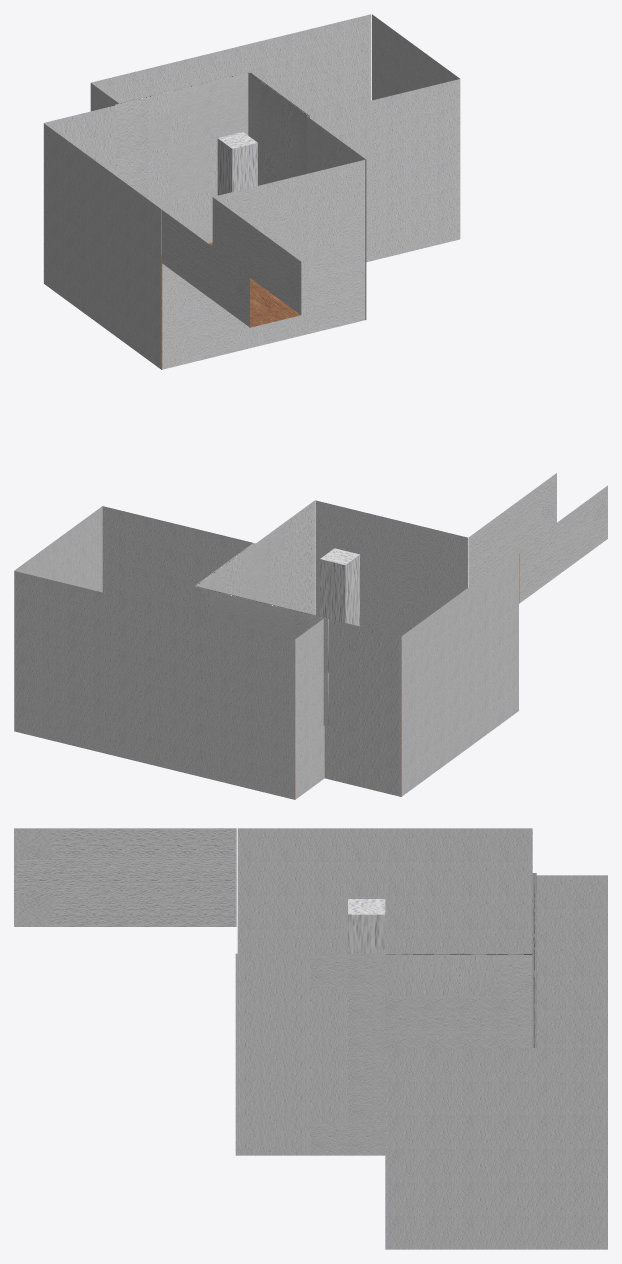
File: Stage_Presentation.gltf
3 views of the same model, one above another, from view 1: azimuth 30°, elevation 25°; view 2: azimuth 150°, elevation 25°; view 3: azimuth 270°, elevation 25° (orthographic). The views are drawn at different scales.
Visible parts, largest first — view 1: Plane.005, Plane.004, Plane.002, Cube.001, Plane.003, Plane.010, Cube, Plane.009, Plane.001, Plane.008, Pillar.01, Plane.006 (+1 smaller); view 2: Plane.003, Plane.004, Plane.005, Plane.008, Plane.002, Plane.006, Plane.010, Plane.007, Plane.009, Cube.001, Plane.001, Pillar.01 (+1 smaller); view 3: Plane.001, Plane.004, Plane.006, Plane.009, Cube, Plane.007, Plane.010, Pillar.01, Cube.001.
Boxes of the visible parts, x1,y1,x2,y2 form: Plane.005: (162,160,365,369); Plane.004: (44,123,161,369); Plane.002: (307,79,460,262); Cube.001: (115,71,250,254); Plane.003: (91,14,371,115); Plane.010: (161,210,249,327); Cube: (248,73,309,185); Plane.009: (212,197,301,314); Plane.001: (372,14,459,100); Plane.008: (43,105,116,282); Pillar.01: (217,132,257,195); Plane.006: (306,116,366,319); Plane.003: (14,571,294,799); Plane.004: (401,551,518,796); Plane.005: (315,500,467,681); Plane.008: (324,619,401,796); Plane.002: (102,506,252,614); Plane.006: (255,500,315,614); Plane.010: (519,485,607,603); Plane.007: (295,619,324,799); Plane.009: (468,473,556,587); Cube.001: (193,586,328,771); Plane.001: (14,506,102,730); Pillar.01: (319,548,359,626); Plane.001: (385,1048,607,1249); Plane.004: (237,828,532,953); Plane.006: (235,953,385,1155); Plane.009: (14,859,236,926); Cube: (385,953,532,1047); Plane.007: (536,875,607,1047); Plane.010: (14,828,236,859); Pillar.01: (348,899,385,953); Cube.001: (532,873,536,1047).
Size of the model in its own units: 14 by 6 by 16.
3 materials, 3 textured.
